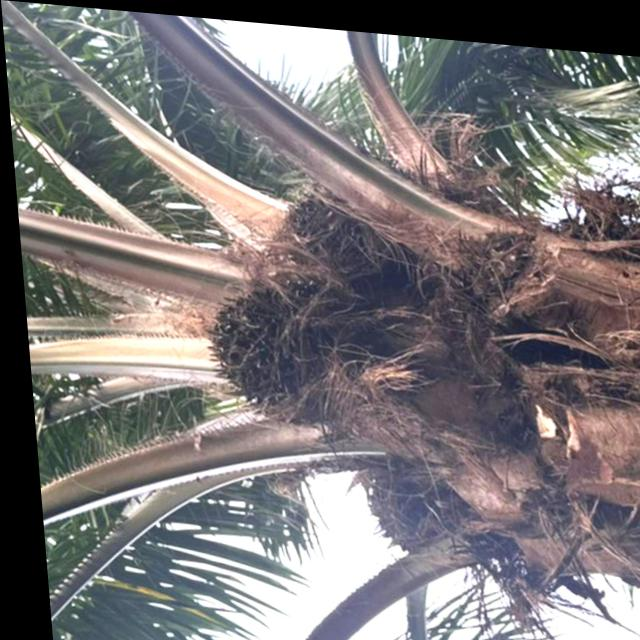unripe: (187, 264, 330, 418)
